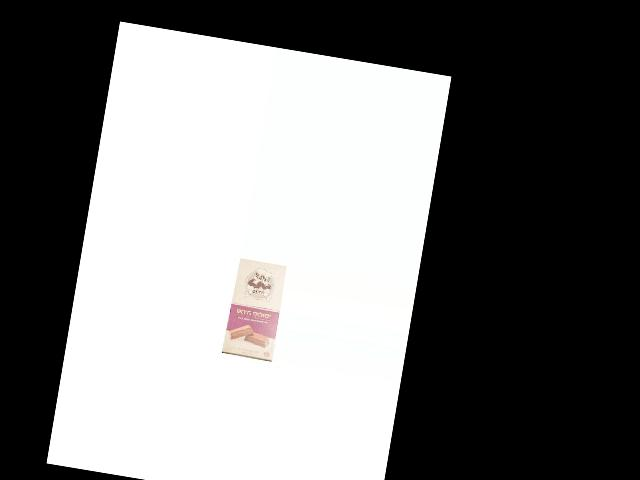chocolate: (220, 257, 286, 361)
